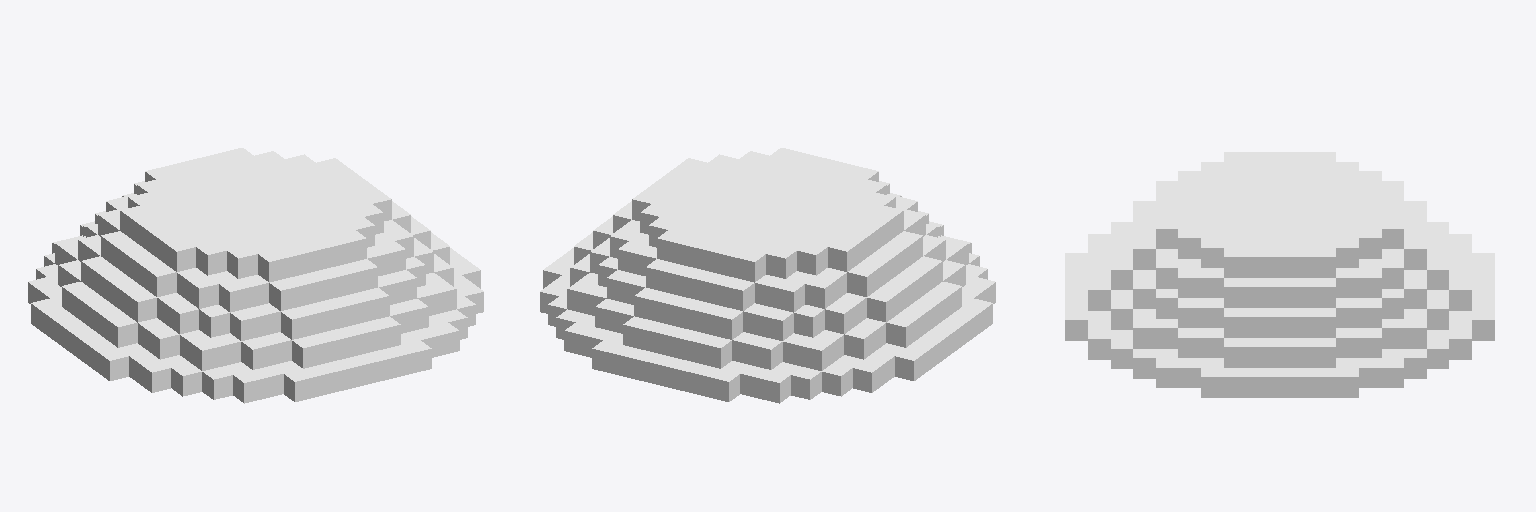
The model's file is jumper.obj.
The picture shows the model from 3 angles: view 1: azimuth 30°, elevation 25°; view 2: azimuth 150°, elevation 25°; view 3: azimuth 270°, elevation 25°; orthographic projection.
Visible parts, largest first — view 1: object 1; view 2: object 1; view 3: object 1.
Boxes of the visible parts, box(x1,y1,x2,y2) form: object 1: box(28, 148, 483, 403); object 1: box(540, 148, 995, 403); object 1: box(1065, 152, 1494, 397).
Bounding box in the file's own units: 1.9 × 0.5 × 1.9.